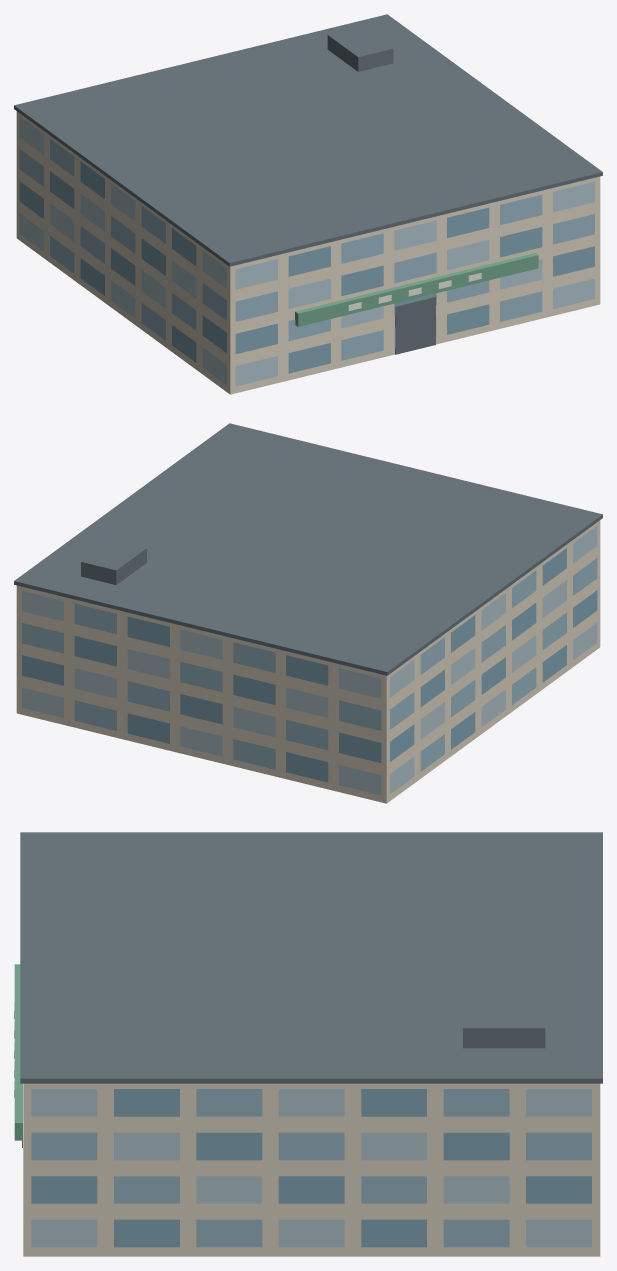
The model's file is korea-building-5-compact.glb.
The picture shows the model from 3 angles, top to bottom: view 1: azimuth 30°, elevation 25°; view 2: azimuth 150°, elevation 25°; view 3: azimuth 270°, elevation 25°; orthographic projection. The views are drawn at different scales.
Size of the model in its own units: 10.6 by 4 by 10.72.
